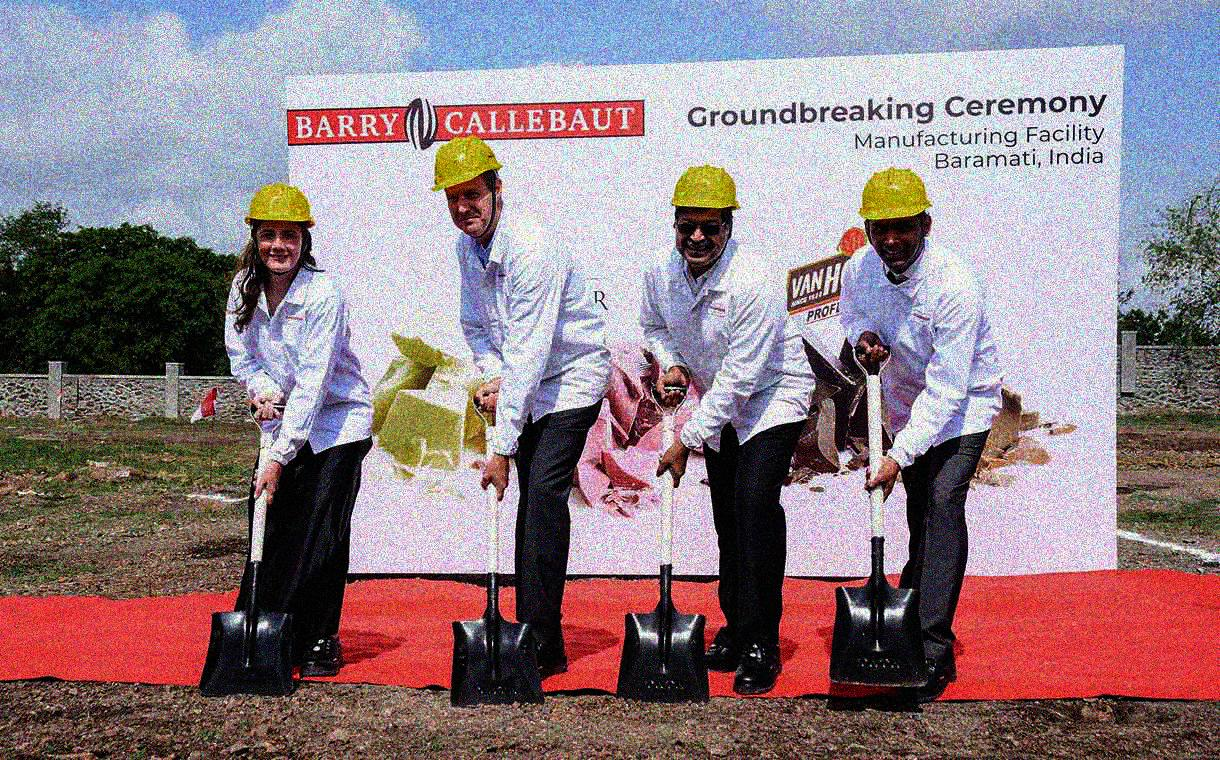helmet: (425, 133, 505, 235), (858, 167, 934, 269), (240, 181, 319, 278), (671, 165, 744, 268)
